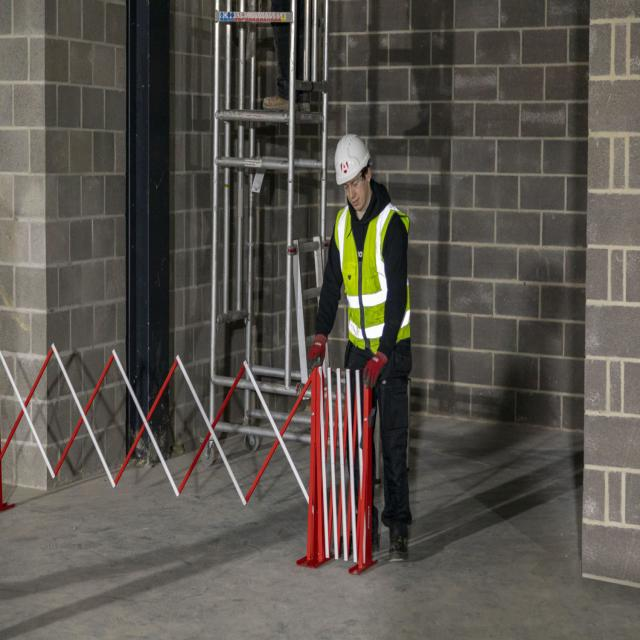cone: (0, 323, 384, 586)
